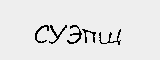Г: (126, 19, 140, 39)
И: (88, 22, 110, 45)
Н: (6, 21, 33, 44)
Т: (30, 21, 54, 46)
Щ: (109, 20, 126, 40)
Ң: (54, 22, 87, 49)
